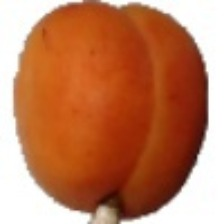apricot: (17, 31, 186, 192)
